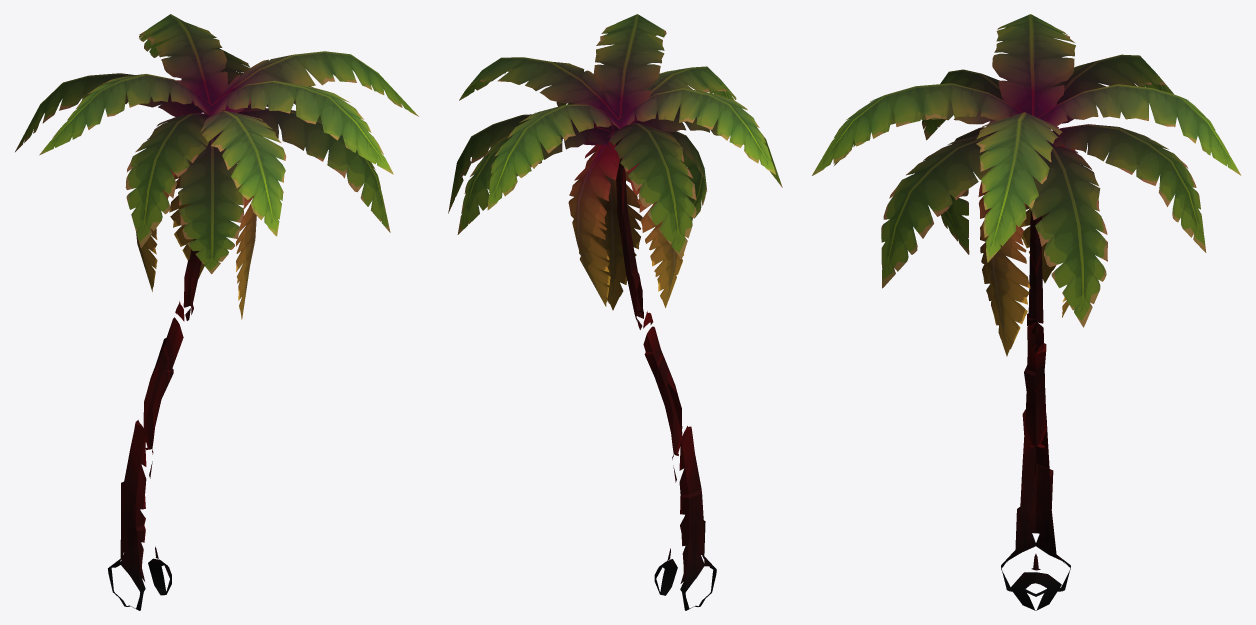
The model's file is trp_palm1.glb.
The picture shows the model from 3 angles, left to right: view 1: azimuth 30°, elevation 25°; view 2: azimuth 150°, elevation 25°; view 3: azimuth 270°, elevation 25°; orthographic projection. The views are drawn at different scales.
Parts seen in each view (by area): view 1: SM_Env_Tree_Palm_01_LOD0; view 2: SM_Env_Tree_Palm_01_LOD0; view 3: SM_Env_Tree_Palm_01_LOD0.
Boxes of the visible parts, x1,y1,x2,y2 form: SM_Env_Tree_Palm_01_LOD0: (15,14,418,610); SM_Env_Tree_Palm_01_LOD0: (448,14,782,610); SM_Env_Tree_Palm_01_LOD0: (812,14,1241,610).
Size of what is drawn, in the model's own units: 5.46 by 7.9 by 5.32.
1 material, 1 textured.
